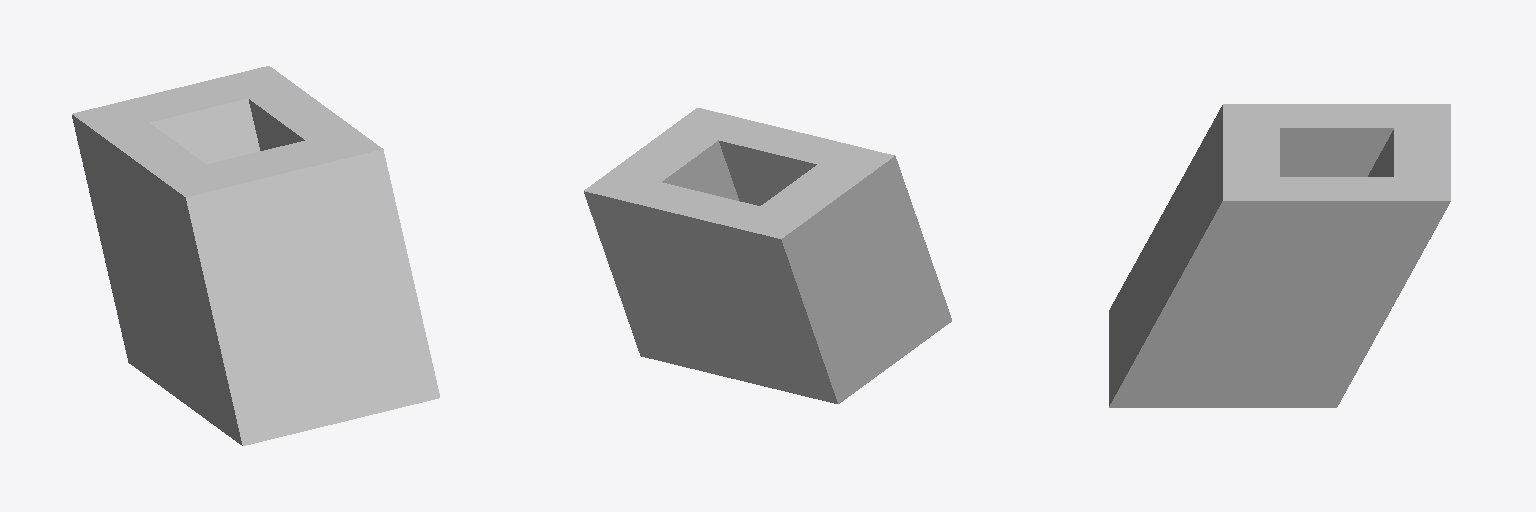
File: tunnel_tube_slant_2.obj
The picture shows the model from 3 angles: view 1: azimuth 30°, elevation 25°; view 2: azimuth 150°, elevation 25°; view 3: azimuth 270°, elevation 25°; orthographic projection.
Parts seen in each view (by area): view 1: tunnel_tube_slant_Cube.002; view 2: tunnel_tube_slant_Cube.002; view 3: tunnel_tube_slant_Cube.002.
Part boxes in pixels (bbox=[...]): tunnel_tube_slant_Cube.002: bbox=[72, 66, 439, 445]; tunnel_tube_slant_Cube.002: bbox=[584, 108, 951, 403]; tunnel_tube_slant_Cube.002: bbox=[1109, 104, 1450, 407].
Bounding box in the file's own units: 1 × 1 × 1.5.